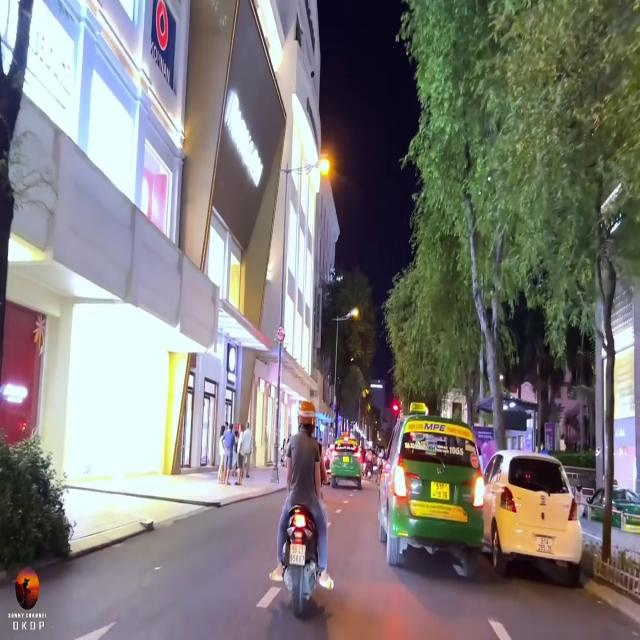bien_trang: (289, 543, 306, 565)
bien_vang: (430, 480, 450, 500)
